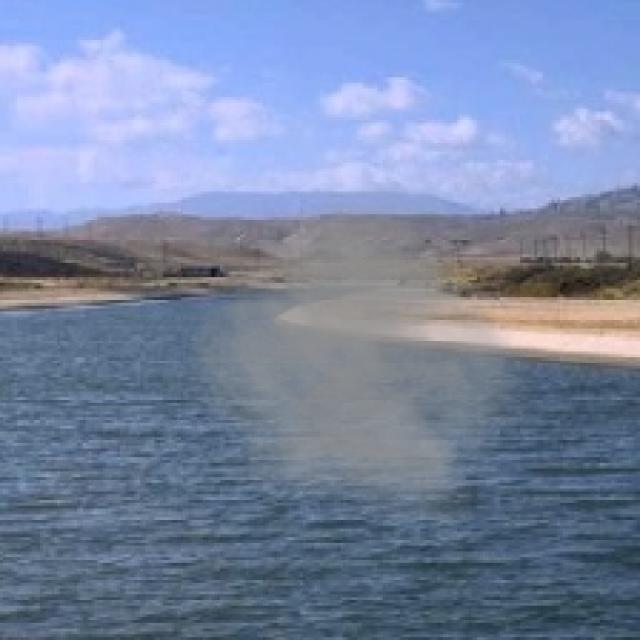smoke: (171, 168, 543, 523)
